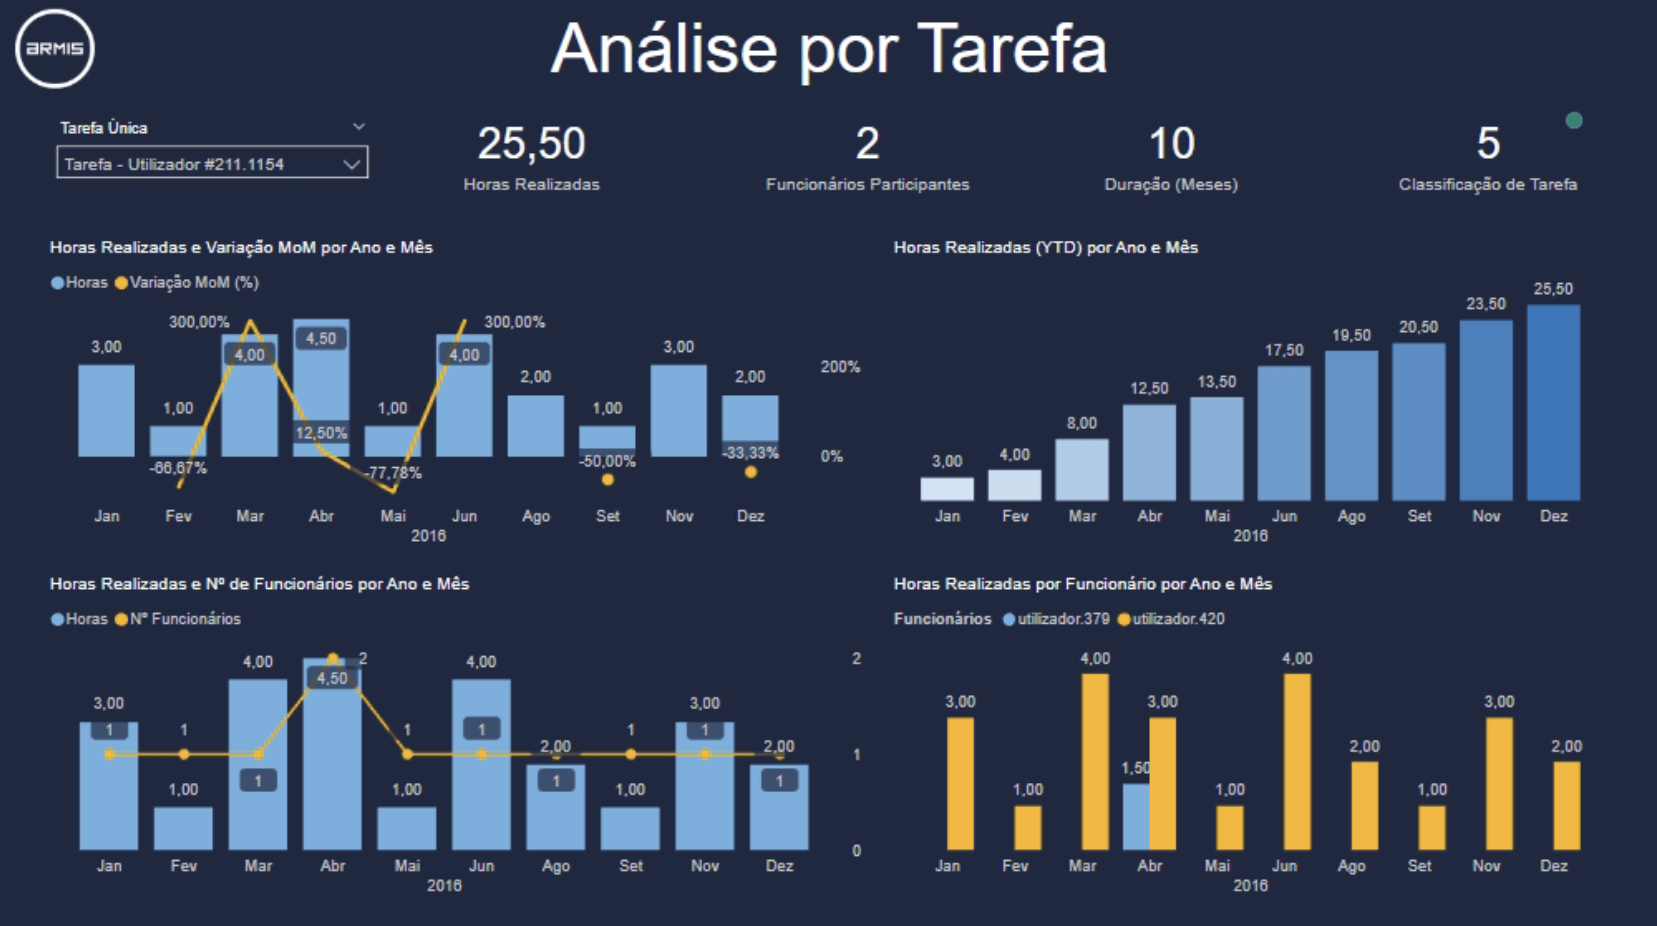

What the dashboard file says about the page in this screenshot:
{"tool":"powerbi","page":{"name":"Análise por Tarefa","canvas":[1280,720],"ordinal":5},"visuals":[{"type":"image","box":[5.1,6.4,77.8,71.4],"z":0},{"type":"lineClusteredColumnComboChart","title":"Horas Realizadas e Nº de Funcionários por Ano e Mês","fields":{"Category":["Calendário.Ano","Calendário.Mes_Abrev"],"Y":["Produtividade de Tarefas.Soma Horas Realizadas Tarefa"],"Y2":["Produtividade de Tarefas.Nº Funcionários Participantes"]},"box":[36,445.6,633.8,258.8],"z":1000},{"type":"card","fields":{"Values":["Produtividade de Tarefas.Nº Funcionários Participantes"]},"box":[583,84.4,174.4,74.7],"z":2000},{"type":"clusteredColumnChart","title":"Horas Realizadas por Funcionário por Ano e Mês","fields":{"Category":["Calendário.Ano","Calendário.Mes_Abrev"],"Y":["Produtividade de Tarefas.Horas Realizadas (Tarefa)"],"Series":["Funcionario.Nome_Funcionario"]},"box":[685,445.6,559,258.8],"z":3000},{"type":"card","fields":{"Values":["Produtividade de Tarefas.Soma Horas Realizadas Tarefa"]},"box":[318.3,84.4,185.4,74.7],"z":4000},{"type":"card","fields":{"Values":["Produtividade de Tarefas.Duração Tarefa"]},"box":[836.7,84.4,132.8,74.7],"z":5000},{"type":"lineStackedColumnComboChart","title":"Horas Realizadas e Variação MoM por Ano e Mês","fields":{"Category":["Calendário.Ano","Calendário.Mes_Abrev"],"Y":["Produtividade de Tarefas.Horas Realizadas (Tarefa)"],"Y2":["Produtividade de Tarefas.Variação (%) MoM de Horas Realizadas (Tarefa)"]},"box":[36,186.8,633.8,249.1],"z":6000},{"type":"clusteredColumnChart","title":"Horas Realizadas (YTD) por Ano e Mês","fields":{"Category":["Calendário.Ano","Calendário.Mes_Abrev"],"Y":["Produtividade de Tarefas.Horas Realizadas (Tarefa) (YearToDate)"]},"box":[685,186.8,559,249.1],"z":7000},{"type":"slicer","fields":{"Values":["Tarefa.Tarefa Única"]},"box":[36,89.9,260.2,62.3],"z":8000},{"type":"textbox","box":[384.7,6.9,510.6,77.5],"z":9000},{"type":"card","fields":{"Values":["Produtividade de Tarefas.Classificação de Tarefa"]},"box":[1048.9,84.4,195.1,74.7],"z":10000},{"type":"shape","box":[1206.1,90.5,12.7,12.7],"z":10501}]}

Visuals, with their boxes in screenshot pixels (x1, y1, x2, y2), scaled from the page's 1280x720 canvas onto the 1657x926 screenshot:
image: locate(7, 8, 107, 100)
"Horas Realizadas e Nº de Funcionários por Ano e Mês" lineClusteredColumnComboChart: locate(47, 573, 867, 906)
card - Produtividade de Tarefas.Nº Funcionários Participantes: locate(755, 109, 980, 205)
"Horas Realizadas por Funcionário por Ano e Mês" clusteredColumnChart: locate(887, 573, 1610, 906)
card - Produtividade de Tarefas.Soma Horas Realizadas Tarefa: locate(412, 109, 652, 205)
card - Produtividade de Tarefas.Duração Tarefa: locate(1083, 109, 1255, 205)
"Horas Realizadas e Variação MoM por Ano e Mês" lineStackedColumnComboChart: locate(47, 240, 867, 561)
"Horas Realizadas (YTD) por Ano e Mês" clusteredColumnChart: locate(887, 240, 1610, 561)
slicer - Tarefa.Tarefa Única: locate(47, 116, 383, 196)
textbox: locate(498, 9, 1159, 109)
card - Produtividade de Tarefas.Classificação de Tarefa: locate(1358, 109, 1610, 205)
shape: locate(1561, 116, 1578, 133)
